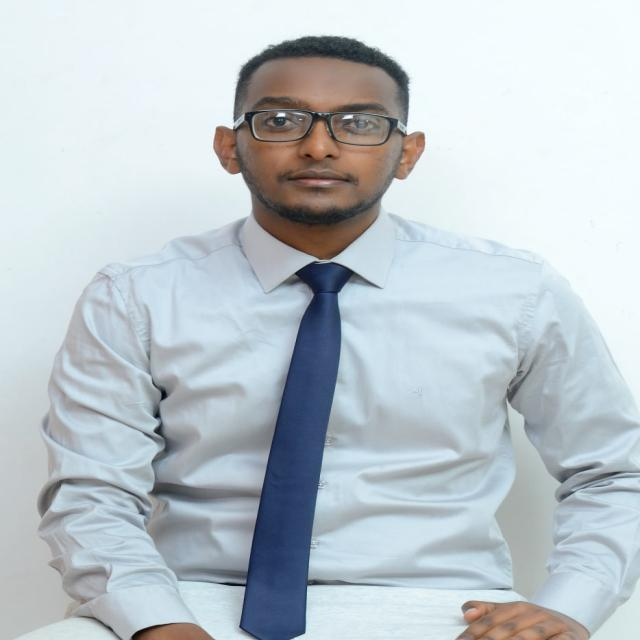Background Image: (2, 1, 637, 638)
Banner: (237, 261, 354, 639)
